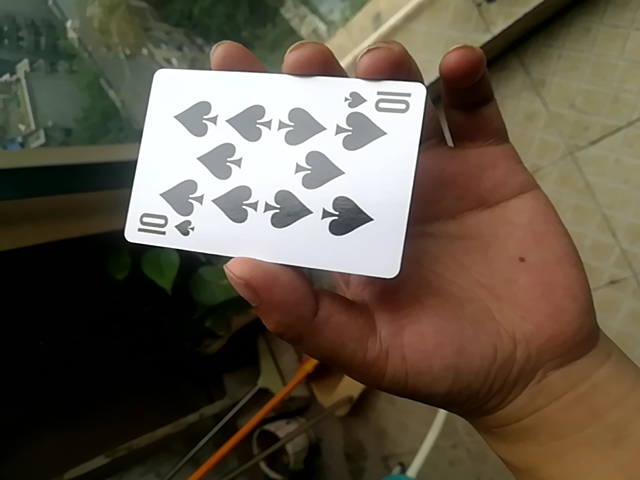ht 10: (121, 65, 424, 283)
